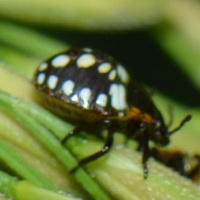insect: (34, 48, 191, 178)
